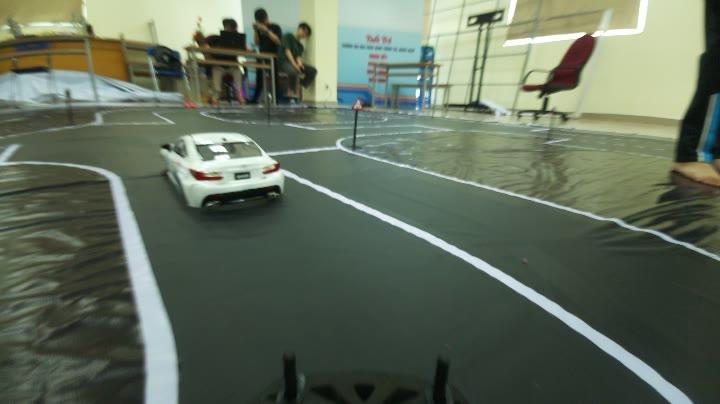car: (142, 133, 302, 208)
